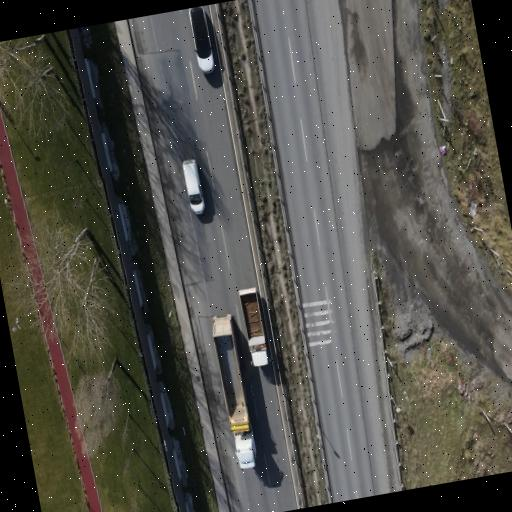car: (188, 6, 213, 73), (182, 159, 203, 213)
truck: (212, 314, 254, 467), (238, 288, 267, 365)
